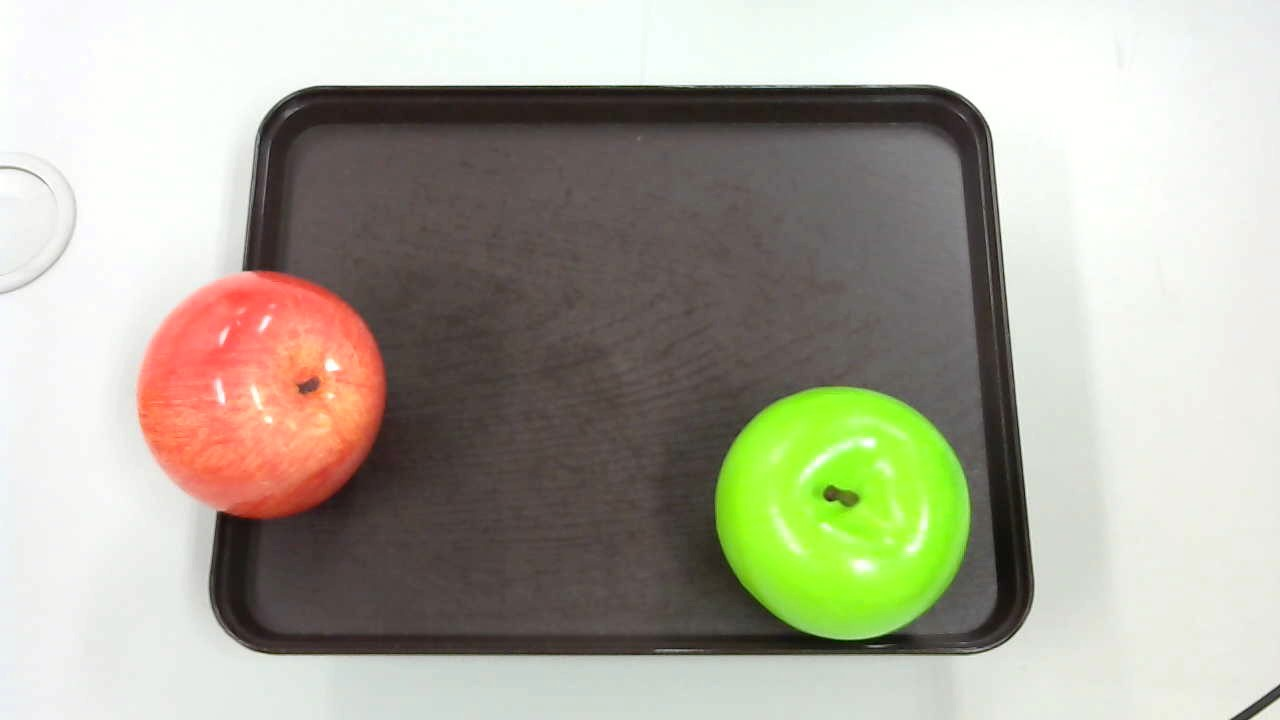green apple: (707, 379, 970, 644)
red apple: (140, 272, 391, 520)
